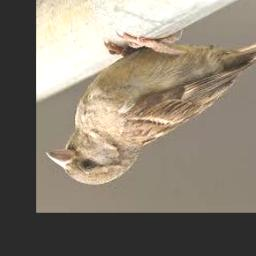Sparrow: (46, 32, 256, 186)
